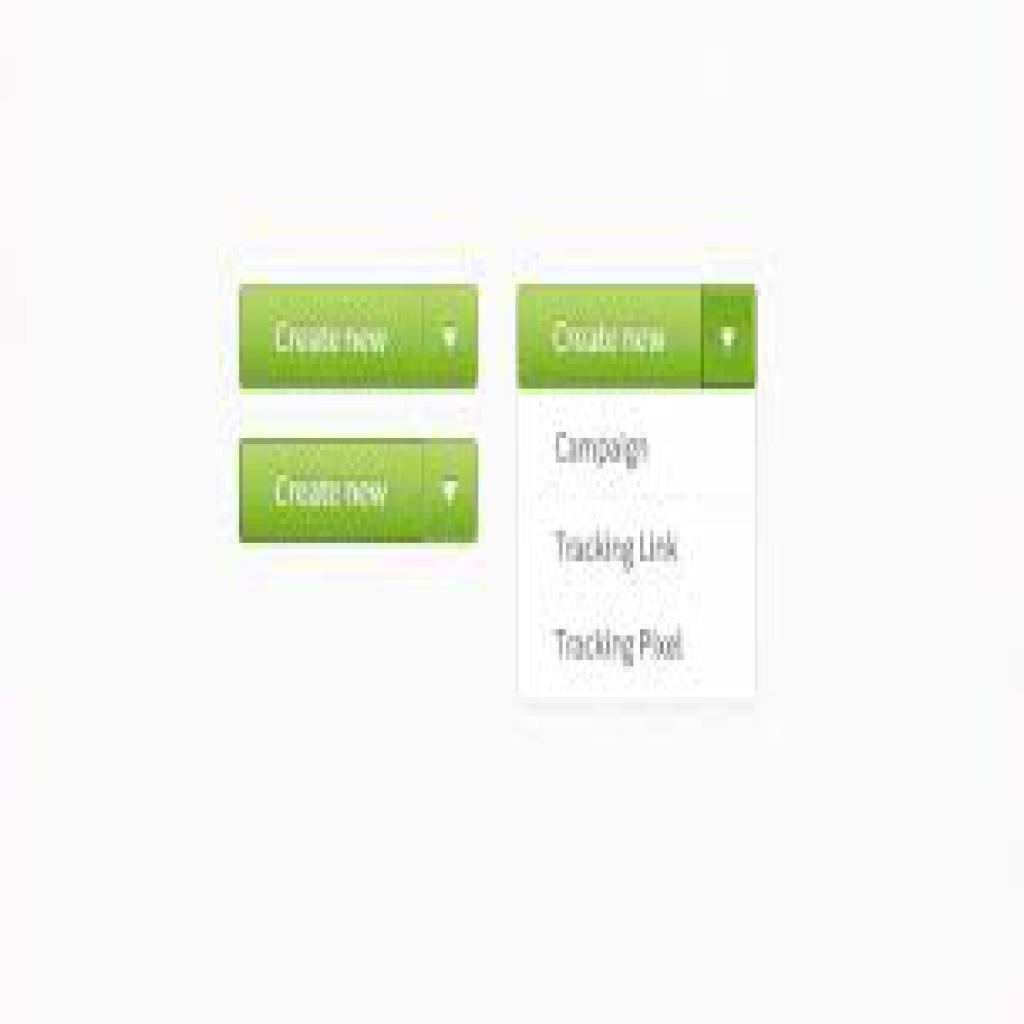dropdown: (519, 284, 759, 391), (242, 437, 478, 543), (237, 288, 480, 390)
